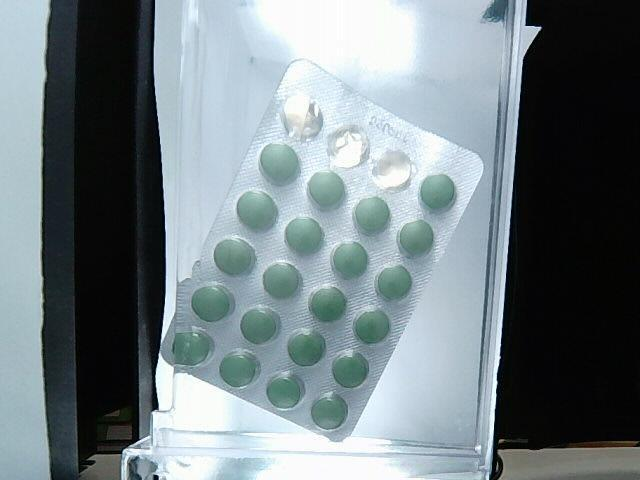Light Front: (163, 59, 484, 440)
No Pill Front: (283, 93, 324, 141), (328, 125, 369, 168), (373, 150, 415, 191)
Pill Front: (260, 144, 300, 184), (236, 191, 277, 229), (191, 285, 234, 321), (240, 306, 280, 342), (214, 239, 255, 274), (285, 218, 323, 254), (308, 171, 344, 207), (309, 286, 346, 321), (264, 263, 301, 298), (398, 220, 434, 255), (354, 198, 389, 234), (333, 351, 369, 386), (375, 265, 412, 299), (288, 331, 325, 365), (220, 353, 257, 387), (331, 243, 366, 278), (311, 395, 347, 429), (354, 310, 390, 343), (173, 331, 209, 364), (421, 175, 454, 208), (266, 376, 301, 407)
